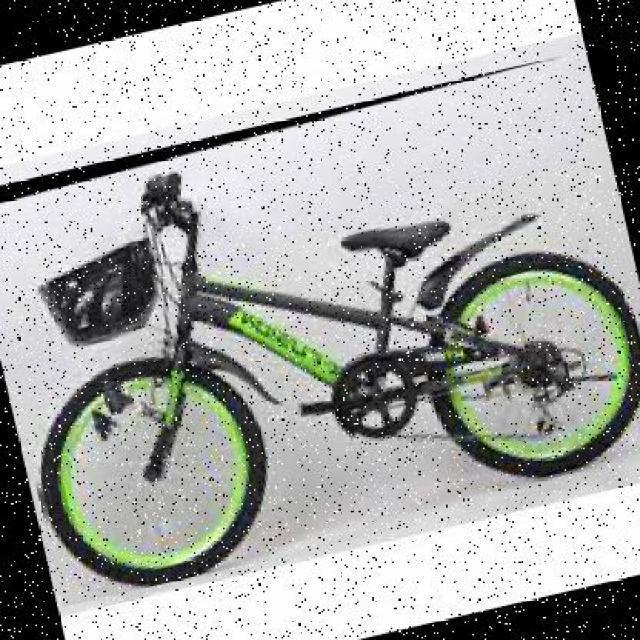bicycle: (1, 54, 639, 610)
